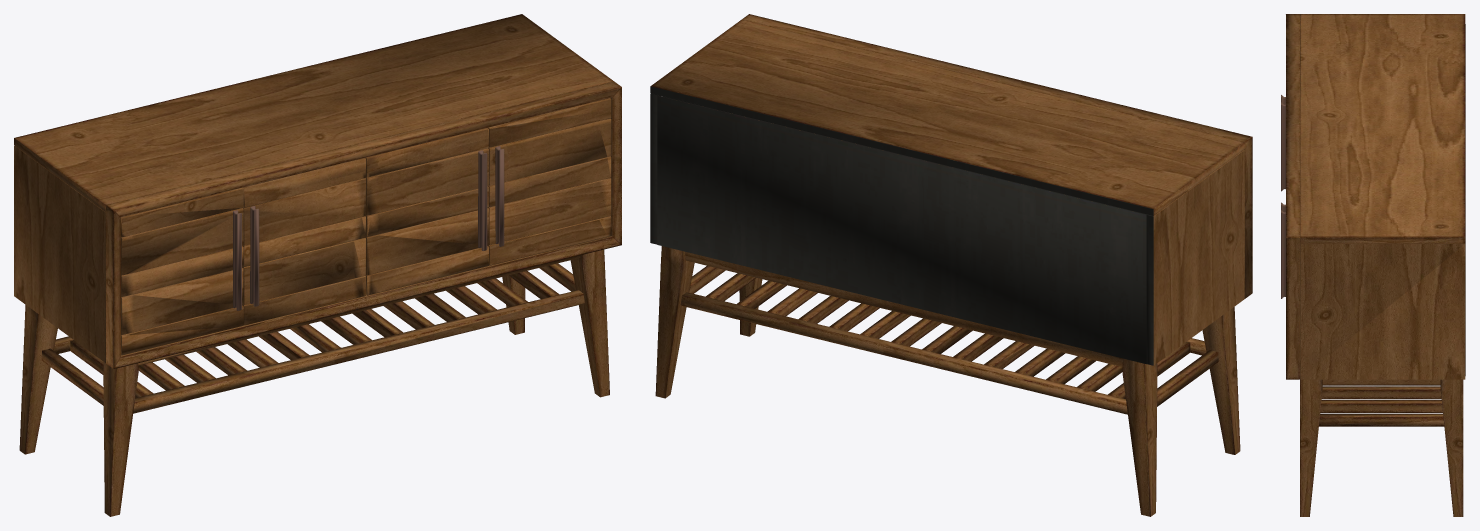
3 views of the same model, side by side, from view 1: azimuth 30°, elevation 25°; view 2: azimuth 150°, elevation 25°; view 3: azimuth 270°, elevation 25° (orthographic). The views are drawn at different scales.
Visible parts, largest first — view 1: RootNode; view 2: RootNode; view 3: RootNode.
Part boxes in pixels (x1,y1,x2,y2): RootNode: (14, 14, 621, 516); RootNode: (650, 14, 1252, 516); RootNode: (1281, 14, 1465, 516).
Size of the model in its own units: 1.36 by 0.8022 by 0.4768.
Materials: 1 (1 with a texture image).
